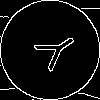Y: (25, 25, 82, 78)
